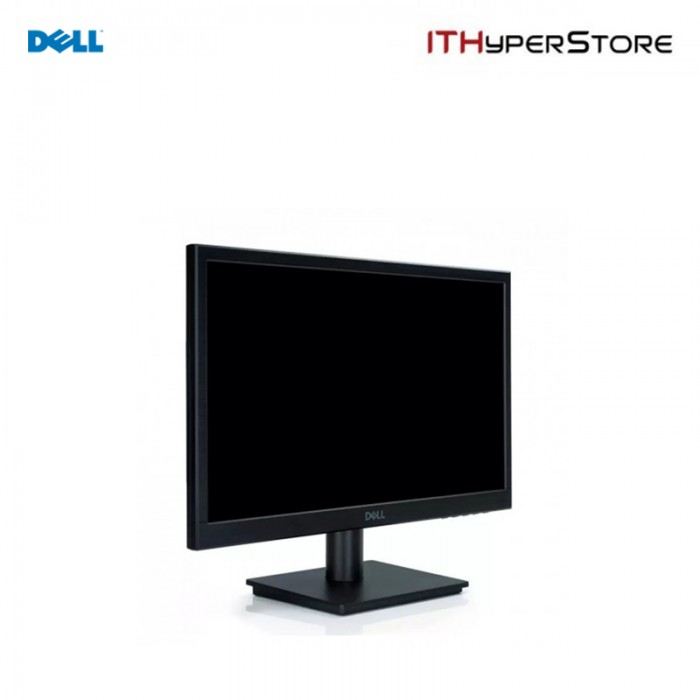dell-monitor-D1918H: (179, 244, 519, 616)
